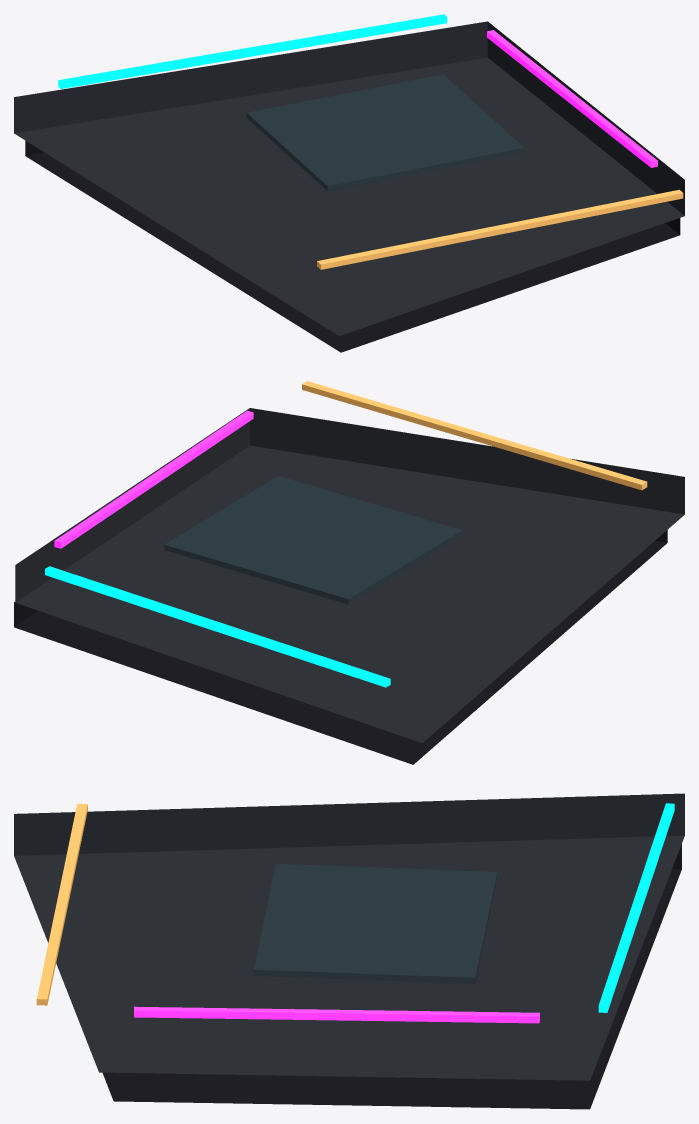
Rendered from desk_left_surface.glb.
3 renders of one model, top to bottom at view 1: azimuth 30°, elevation 25°; view 2: azimuth 150°, elevation 25°; view 3: azimuth 270°, elevation 25°, orthographic. The views are drawn at different scales.
Parts seen in each view (by area): view 1: desk_left_surface_main_trapezoid_shell, desk_left_surface_smoked_glass_insert, desk_left_surface_lower_shadow_base, desk_left_surface_front_cyan_trace, desk_left_surface_warm_trim_rear, desk_left_surface_inner_magenta_trace; view 2: desk_left_surface_main_trapezoid_shell, desk_left_surface_smoked_glass_insert, desk_left_surface_lower_shadow_base, desk_left_surface_front_cyan_trace, desk_left_surface_warm_trim_rear, desk_left_surface_inner_magenta_trace; view 3: desk_left_surface_main_trapezoid_shell, desk_left_surface_smoked_glass_insert, desk_left_surface_lower_shadow_base, desk_left_surface_inner_magenta_trace, desk_left_surface_warm_trim_rear, desk_left_surface_front_cyan_trace.
Boxes of the visible parts, box(x1,y1,x2,y2) form: desk_left_surface_main_trapezoid_shell: box(14, 21, 684, 335); desk_left_surface_smoked_glass_insert: box(246, 74, 523, 191); desk_left_surface_lower_shadow_base: box(25, 140, 680, 352); desk_left_surface_front_cyan_trace: box(58, 14, 447, 88); desk_left_surface_warm_trim_rear: box(317, 189, 683, 269); desk_left_surface_inner_magenta_trace: box(487, 30, 657, 167); desk_left_surface_main_trapezoid_shell: box(15, 408, 684, 743); desk_left_surface_smoked_glass_insert: box(164, 476, 462, 604); desk_left_surface_lower_shadow_base: box(14, 530, 667, 764); desk_left_surface_front_cyan_trace: box(45, 566, 390, 687); desk_left_surface_warm_trim_rear: box(302, 381, 647, 490); desk_left_surface_inner_magenta_trace: box(54, 410, 253, 548); desk_left_surface_main_trapezoid_shell: box(14, 793, 684, 1080); desk_left_surface_smoked_glass_insert: box(254, 864, 497, 983); desk_left_surface_lower_shadow_base: box(102, 844, 681, 1109); desk_left_surface_inner_magenta_trace: box(134, 1006, 539, 1023); desk_left_surface_warm_trim_rear: box(36, 803, 87, 1005); desk_left_surface_front_cyan_trace: box(598, 803, 674, 1012).
Size of the model in its own units: 3.01 by 0.4875 by 3.47.
